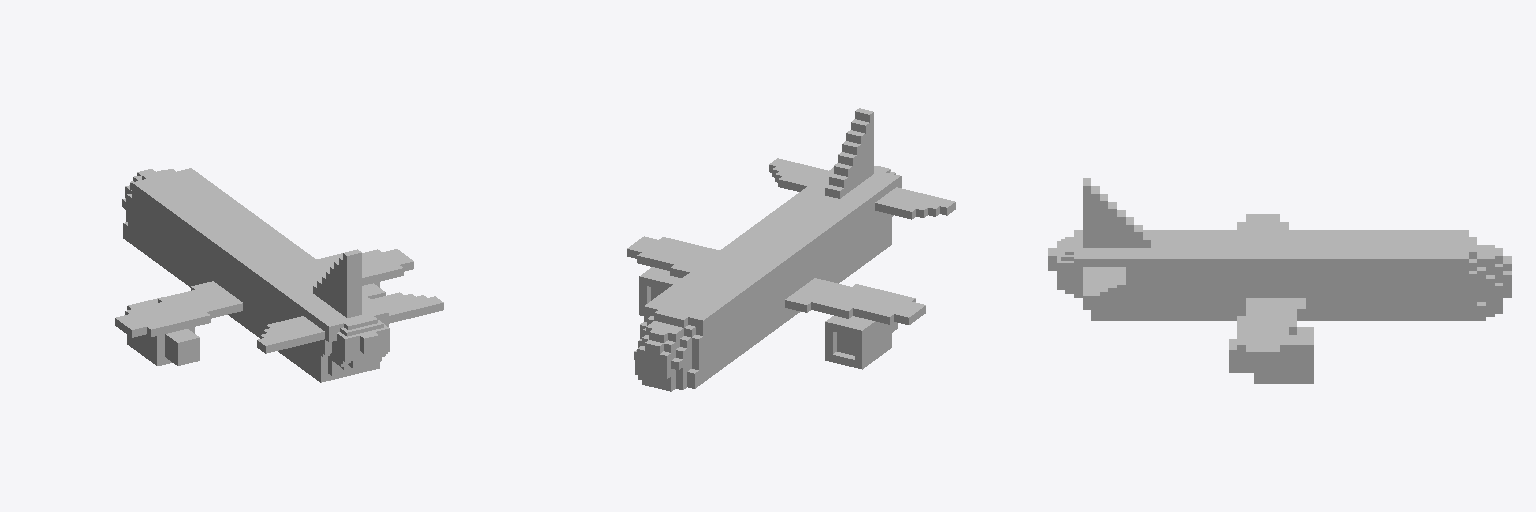
File: boeing.obj
3 renders of one model, left to right at view 1: azimuth 30°, elevation 25°; view 2: azimuth 150°, elevation 25°; view 3: azimuth 270°, elevation 25°, orthographic.
Size of the model in its own units: 76 by 38 by 108.